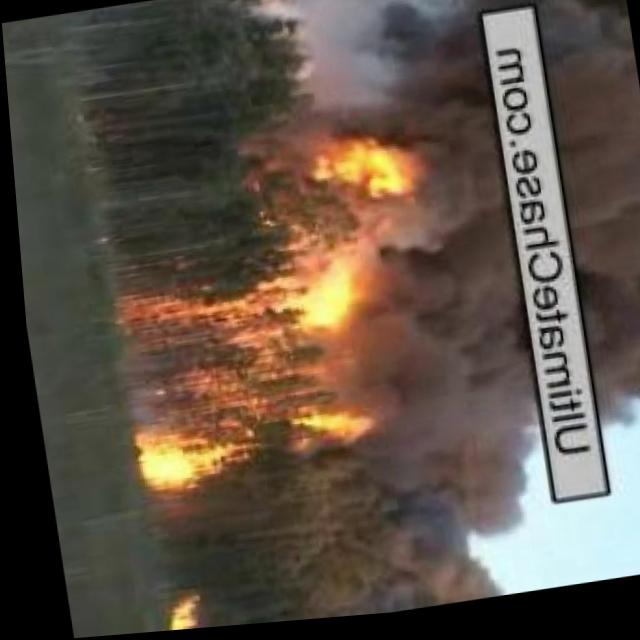Fire: (120, 413, 256, 521), (280, 255, 397, 351), (303, 131, 422, 214), (271, 392, 375, 466), (145, 587, 196, 633)
